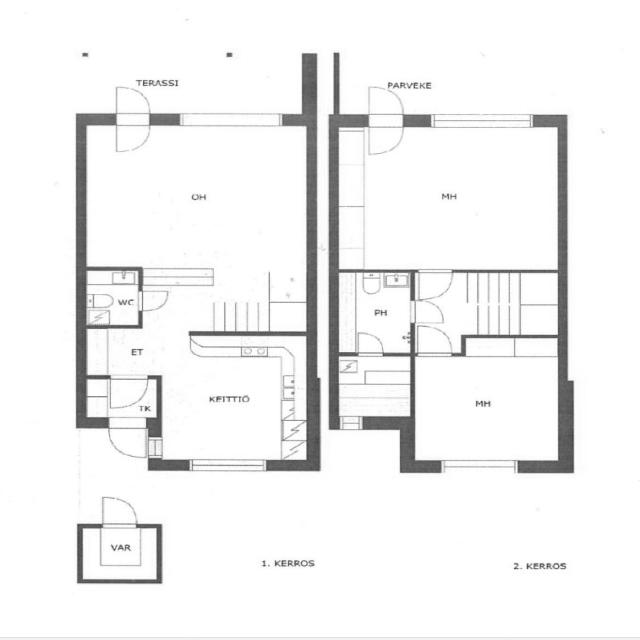door: (336, 271, 413, 358), (333, 354, 412, 424), (360, 83, 408, 159), (109, 84, 154, 158), (106, 418, 151, 462), (96, 493, 144, 532), (413, 266, 458, 303), (412, 322, 457, 359), (106, 375, 152, 411), (405, 294, 451, 328), (133, 286, 175, 314), (353, 328, 386, 359)
window: (422, 108, 541, 136), (172, 109, 289, 136), (432, 453, 528, 482), (184, 456, 274, 476), (337, 414, 367, 434)
zone: (80, 120, 316, 284), (332, 121, 566, 272), (408, 338, 566, 468), (160, 334, 312, 466), (335, 269, 415, 357), (334, 353, 414, 426), (81, 525, 159, 583), (84, 267, 140, 326)
